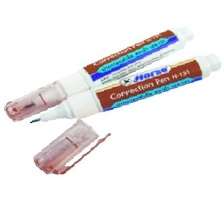correction_fluid: (3, 26, 194, 121), (27, 53, 222, 126)
